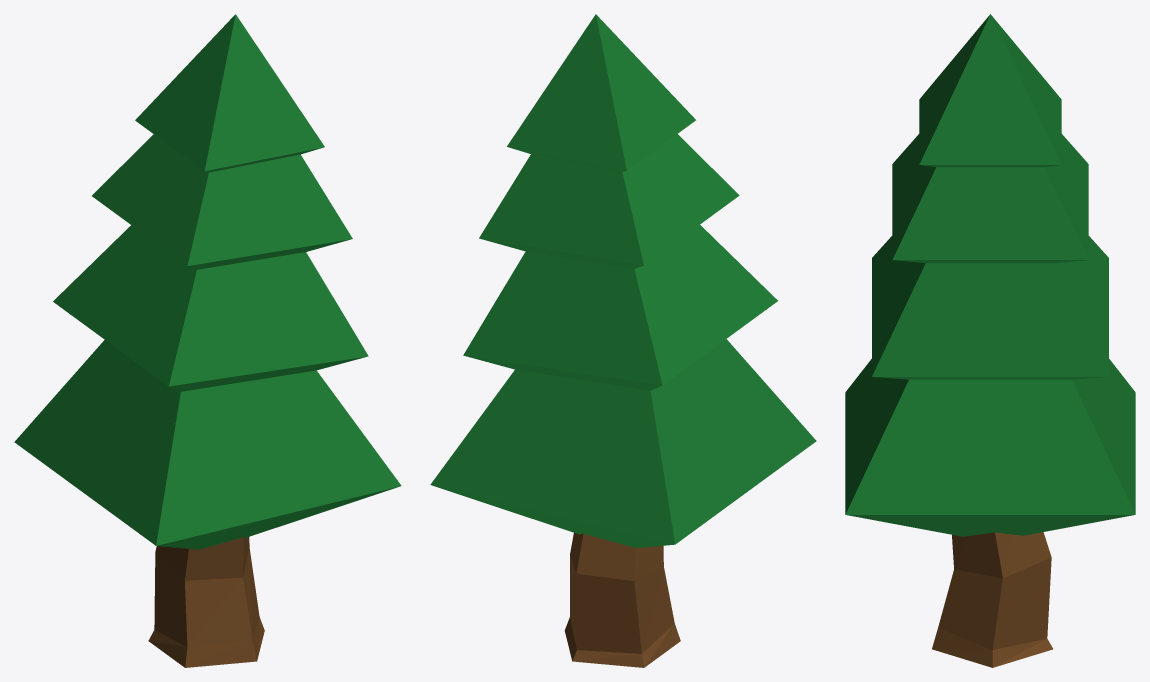
The model's file is Tree.FBX.
3 renders of one model, left to right at view 1: azimuth 30°, elevation 25°; view 2: azimuth 150°, elevation 25°; view 3: azimuth 270°, elevation 25°, orthographic. The views are drawn at different scales.
Visible parts, largest first — view 1: Tree; view 2: Tree; view 3: Tree.
Part boxes in pixels (<box>): Tree: <box>14,14,401,667</box>; Tree: <box>430,14,816,667</box>; Tree: <box>845,14,1135,667</box>.
Bounding box in the file's own units: 7.07 × 17.18 × 7.07.
